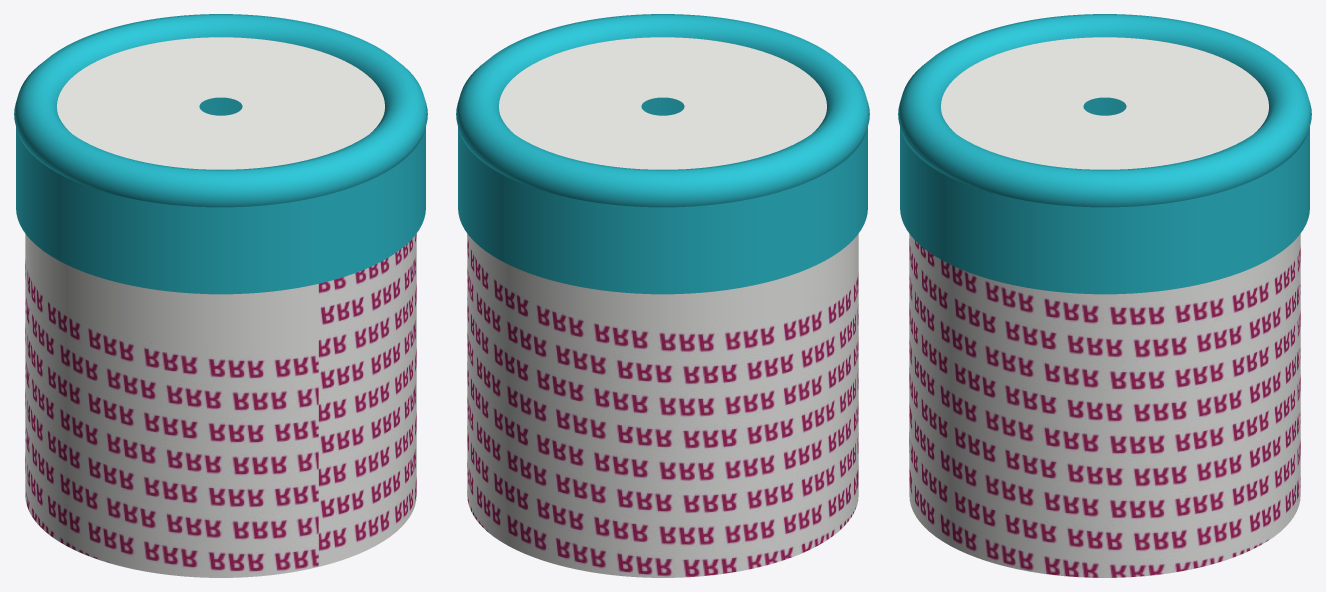
3 renders of one model, left to right at view 1: azimuth 30°, elevation 25°; view 2: azimuth 150°, elevation 25°; view 3: azimuth 270°, elevation 25°, orthographic.
Visible parts, largest first — view 1: D30-H114; view 2: D30-H114; view 3: D30-H114.
Boxes of the visible parts, left/top/right/bottom form: D30-H114: left=14, top=14, right=427, bottom=577; D30-H114: left=456, top=14, right=869, bottom=577; D30-H114: left=898, top=14, right=1311, bottom=577.
Size of the model in its own units: 0.11 by 0.1177 by 0.11.
6 materials, 1 textured.
